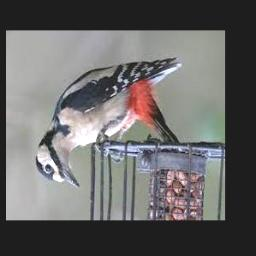Woodpecker: (35, 58, 182, 188)
